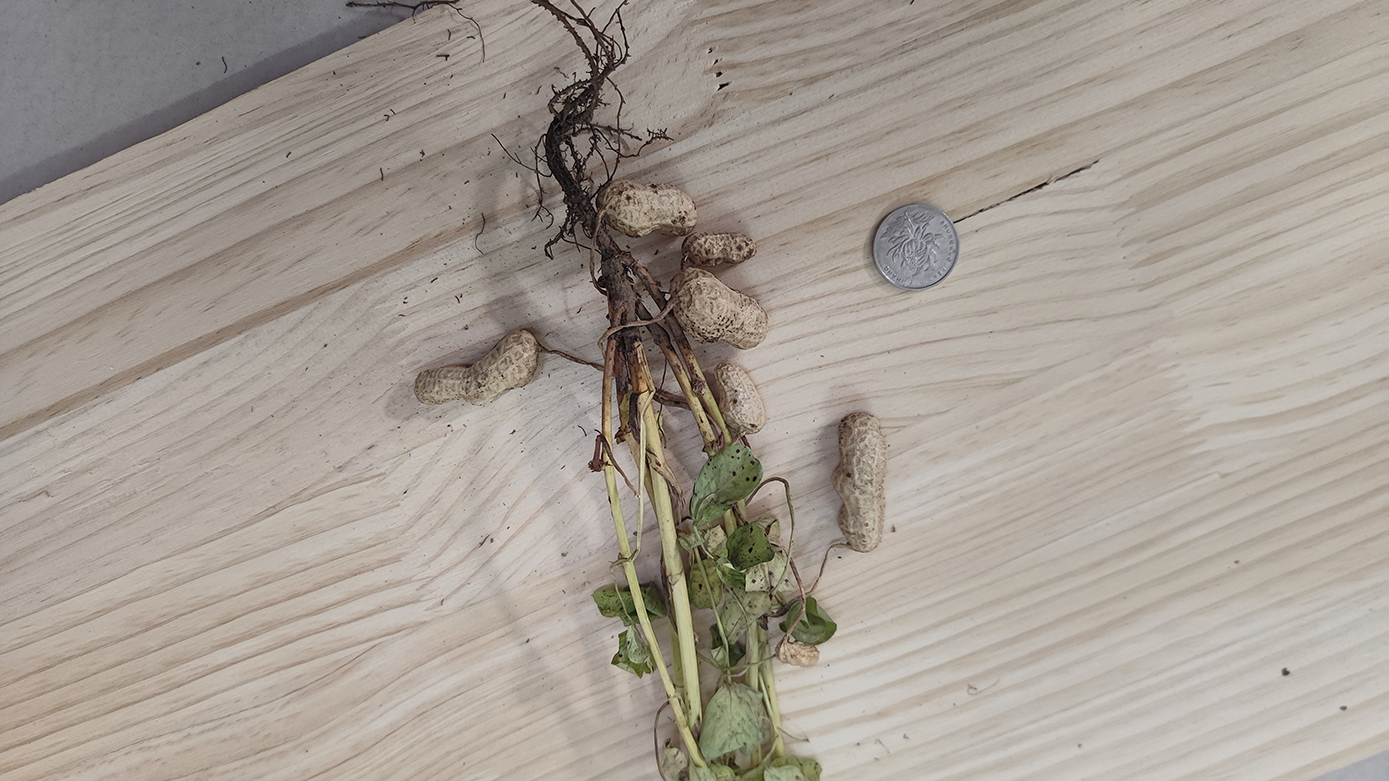h: (413, 327, 540, 407), (670, 269, 769, 348), (832, 411, 886, 553), (597, 181, 697, 239), (714, 362, 767, 432), (680, 231, 756, 267)
l: (775, 641, 821, 667)
